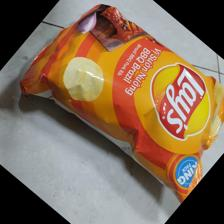Lays: (18, 3, 224, 208)
